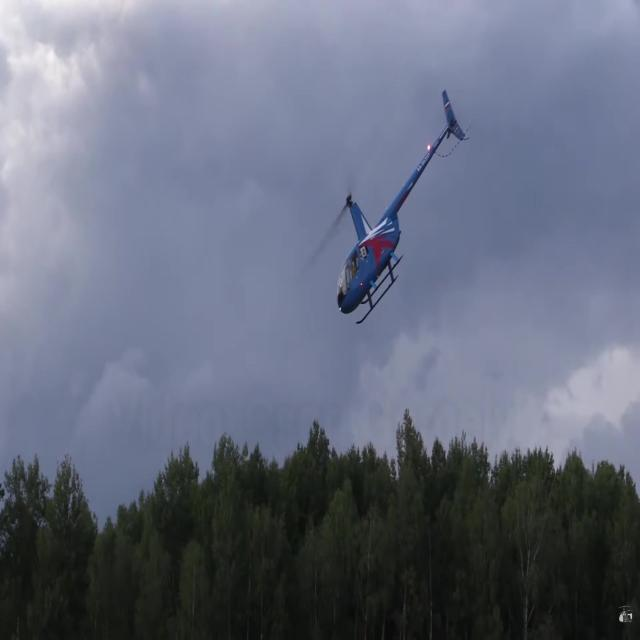CIV_HELO: (337, 89, 466, 326)
